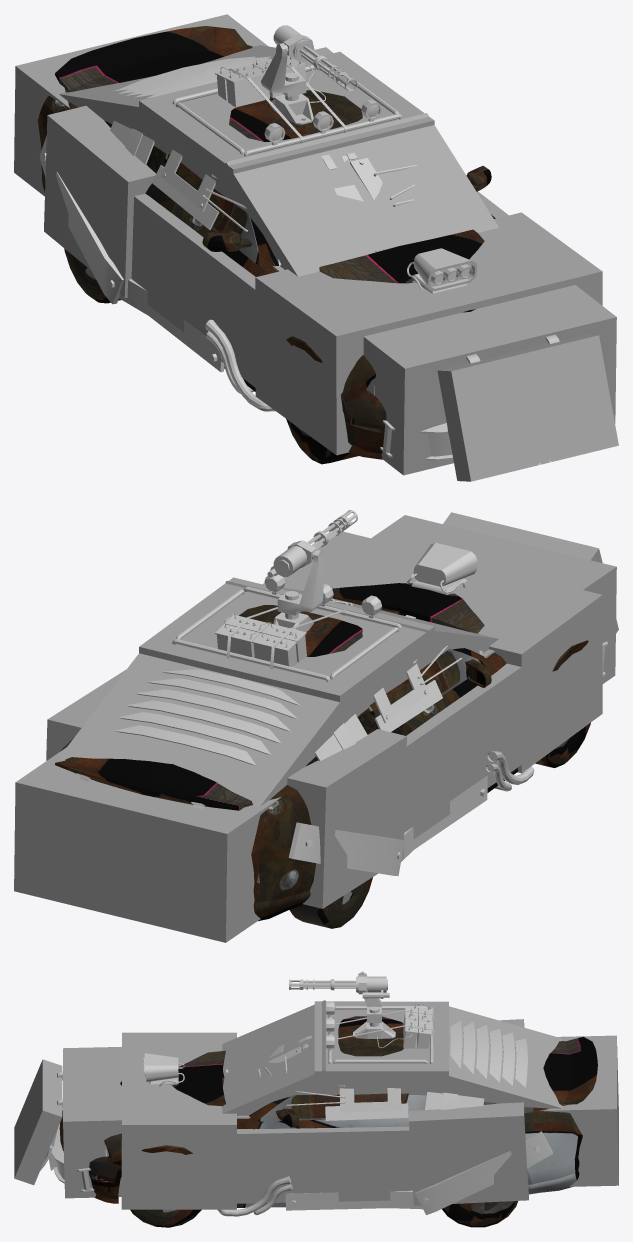
Rendered from mh_vehicle_mustang_gianmarco_collisions_Lights_000.fbx.
3 views of the same model, one above another, from view 1: azimuth 30°, elevation 25°; view 2: azimuth 150°, elevation 25°; view 3: azimuth 270°, elevation 25° (orthographic). The views are drawn at different scales.
Parts seen in each view (by area): view 1: pCube4, pCube7, pCube2, CarBody, pCube5, pCube9, StaticProtections, pCube6, pCube3, pCube8, BodyProtection_R, SideGlassProtection_R1 (+8 smaller); view 2: pCube2, pCube4, CarBody, StaticProtections, pCube8, pCube3, pCube6, pCube9, BodyProtection_R, SideGlassProtection_R1, pCube5, pCube7 (+6 smaller); view 3: CarBody, pCube4, pCube2, pCube9, pCube3, StaticProtections, pCube6, pCube7, pCube8, pCube5, BodyProtection_L, SideGlassProtection_L (+7 smaller).
Part boxes in pixels (x1=…): pCube4: x1=255, y1=212, x2=602, y2=455; pCube7: x1=225, y1=113, x2=498, y2=276; pCube2: x1=14, y1=14, x2=616, y2=475; CarBody: x1=37, y1=26, x2=495, y2=459; pCube5: x1=437, y1=334, x2=618, y2=481; pCube9: x1=131, y1=191, x2=508, y2=387; StaticProtections: x1=114, y1=55, x2=477, y2=411; pCube6: x1=139, y1=51, x2=434, y2=200; pCube3: x1=44, y1=47, x2=333, y2=298; pCube8: x1=59, y1=45, x2=323, y2=130; BodyProtection_R: x1=39, y1=136, x2=123, y2=304; SideGlassProtection_R1: x1=152, y1=150, x2=247, y2=231; pCube2: x1=14, y1=515, x2=616, y2=942; pCube4: x1=262, y1=531, x2=602, y2=773; CarBody: x1=55, y1=583, x2=588, y2=920; StaticProtections: x1=114, y1=542, x2=534, y2=791; pCube8: x1=59, y1=653, x2=351, y2=806; pCube3: x1=46, y1=669, x2=406, y2=908; pCube6: x1=139, y1=577, x2=434, y2=725; pCube9: x1=404, y1=663, x2=521, y2=839; BodyProtection_R: x1=288, y1=822, x2=404, y2=876; SideGlassProtection_R1: x1=373, y1=645, x2=462, y2=732; pCube5: x1=443, y1=512, x2=618, y2=633; pCube7: x1=225, y1=581, x2=498, y2=666; CarBody: x1=59, y1=1016, x2=597, y2=1207; pCube4: x1=121, y1=1032, x2=236, y2=1209; pCube2: x1=63, y1=1035, x2=618, y2=1198; pCube9: x1=235, y1=1126, x2=412, y2=1203; pCube3: x1=409, y1=1019, x2=528, y2=1205; StaticProtections: x1=105, y1=1001, x2=527, y2=1216; pCube6: x1=314, y1=1001, x2=448, y2=1095; pCube7: x1=222, y1=1000, x2=332, y2=1115; pCube8: x1=434, y1=1006, x2=562, y2=1108; pCube5: x1=14, y1=1059, x2=62, y2=1185; BodyProtection_L: x1=414, y1=1131, x2=552, y2=1214; SideGlassProtection_L: x1=286, y1=1085, x2=408, y2=1120.
Size of the model in its own units: 208 by 199 by 525.
